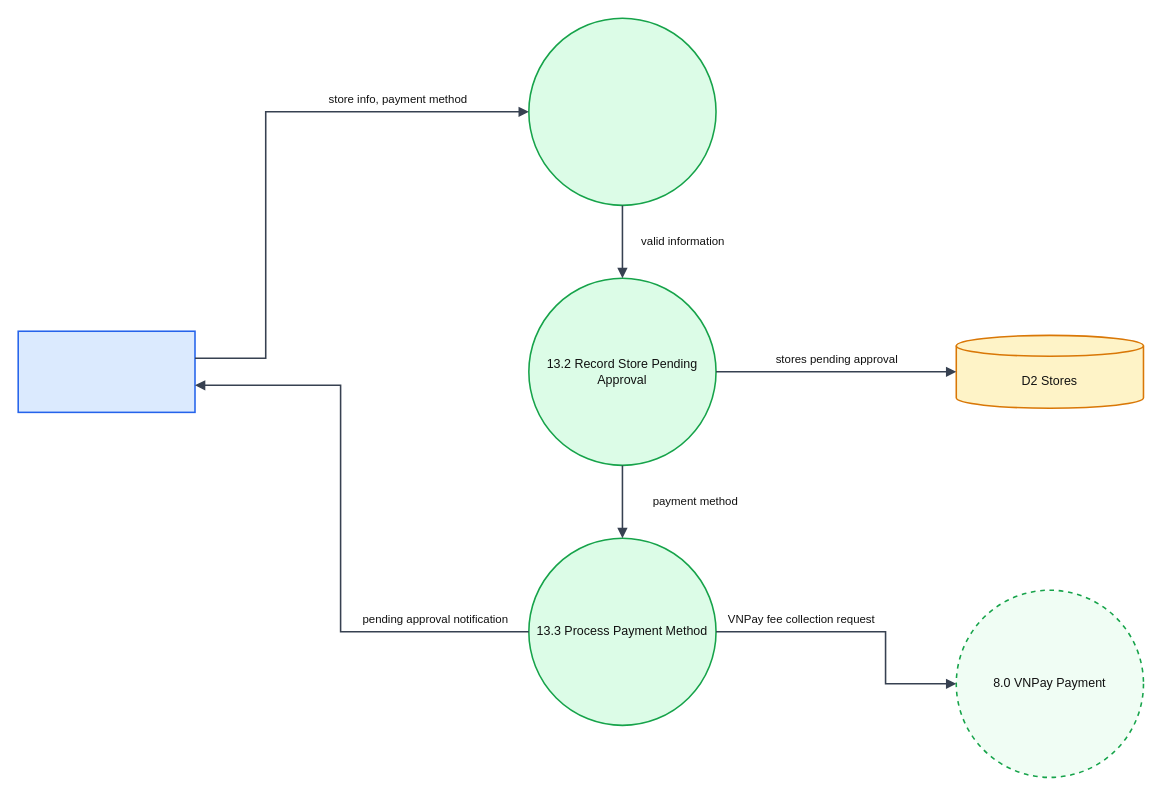
The diagram is 1163 pixels wide and 797 high, and some of its shapes have lost their labels. The box of each missing label's shape, as (x1, y1, x2, y2) in pixels:
13.1 Enter Store Information: (528, 17, 716, 206)
Store Owner: (17, 330, 195, 413)
